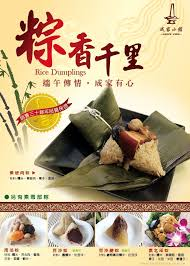zongzi: (100, 119, 164, 176), (70, 87, 121, 149), (54, 215, 83, 243), (11, 215, 35, 242), (153, 214, 176, 241), (106, 216, 127, 244)
